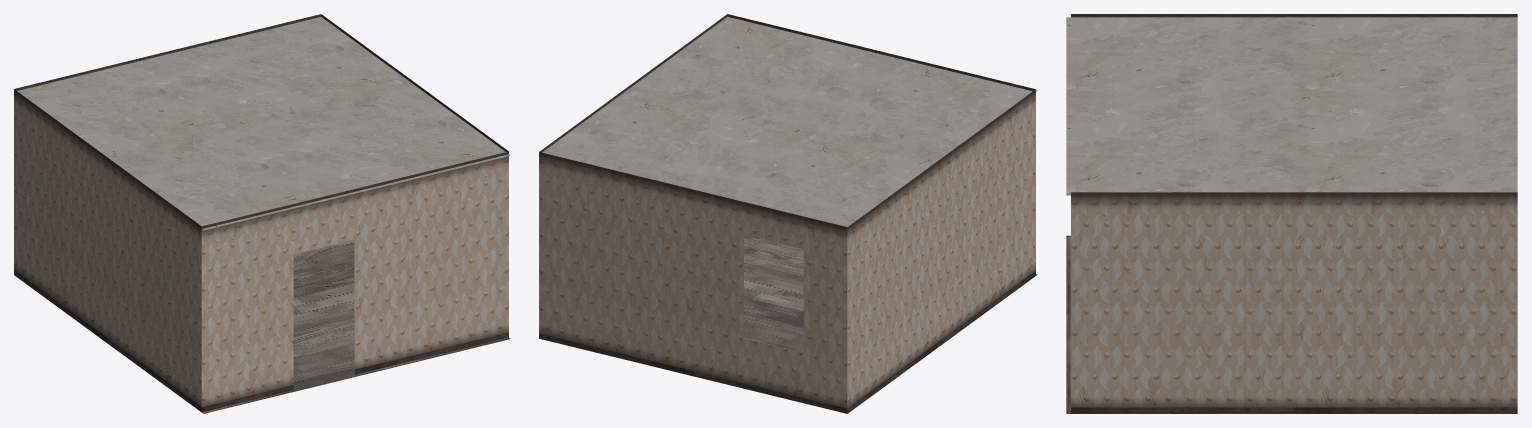
The model's file is dadroom.fbx.
3 renders of one model, left to right at view 1: azimuth 30°, elevation 25°; view 2: azimuth 150°, elevation 25°; view 3: azimuth 270°, elevation 25°, orthographic. The views are drawn at different scales.
Parts seen in each view (by area): view 1: dadwalls, dadroof, dadfloor; view 2: dadwalls, dadroof, dadfloor; view 3: dadwalls, dadroof, dadfloor.
Boxes of the visible parts, x1,y1,x2,y2 form: dadwalls: (14, 14, 508, 412); dadroof: (17, 17, 510, 230); dadfloor: (202, 240, 510, 413); dadwalls: (539, 14, 1035, 413); dadroof: (542, 17, 1037, 226); dadfloor: (744, 234, 1037, 352); dadwalls: (1071, 14, 1517, 413); dadroof: (1066, 17, 1517, 195); dadfloor: (1066, 235, 1070, 413).
Size of the model in its own units: 533 by 309 by 570.
